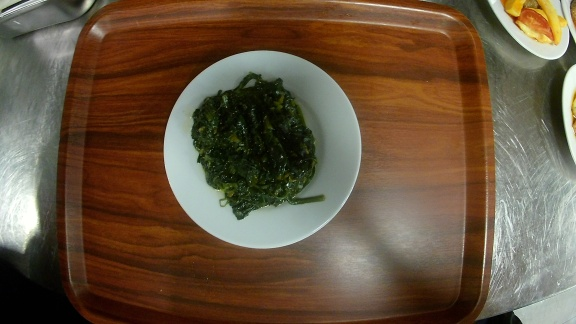ispanak: (162, 49, 363, 250)
